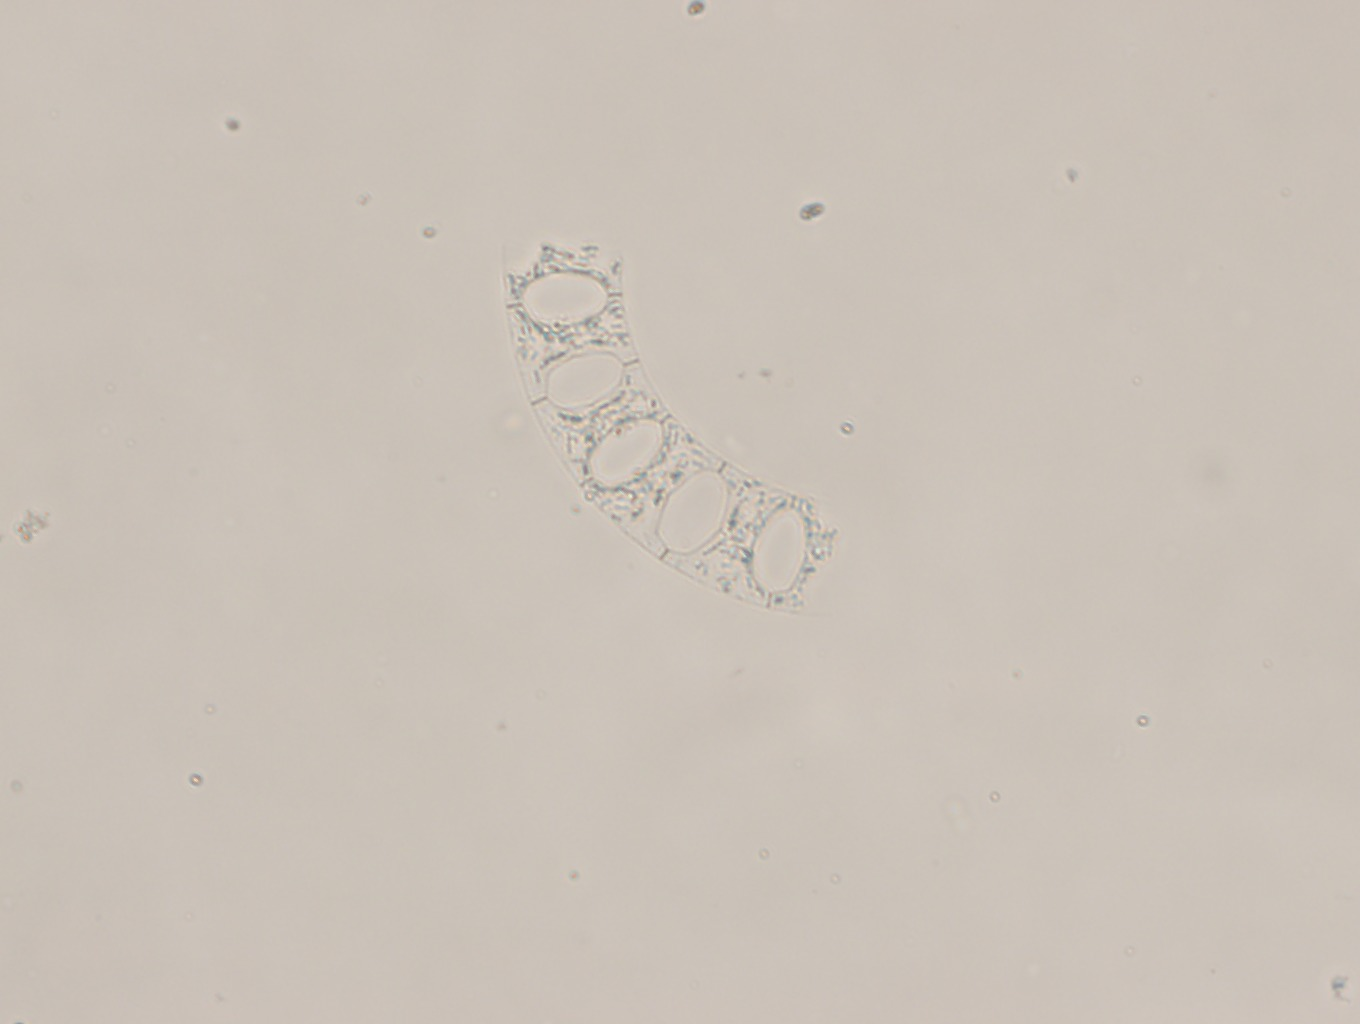eucampia: (489, 219, 839, 624)
